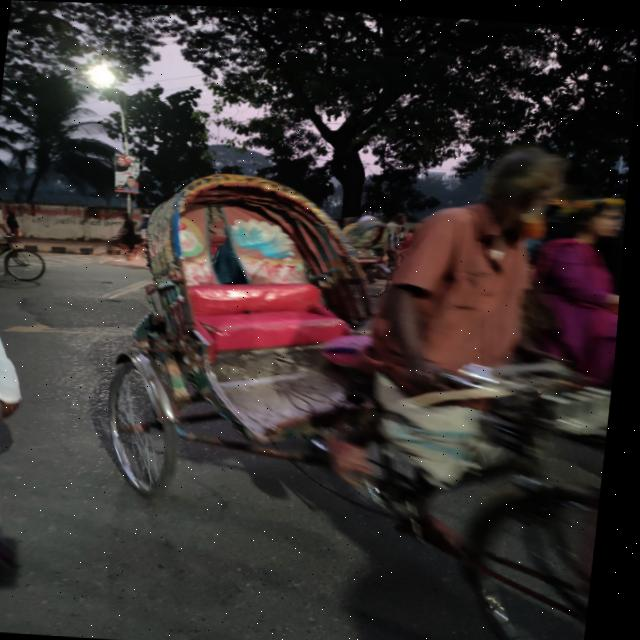rikshaw: (115, 184, 630, 640)
